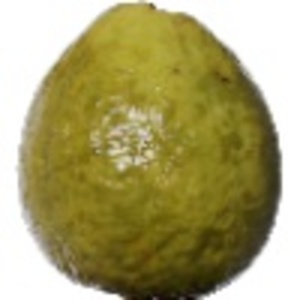goiaba: (15, 2, 285, 298)
